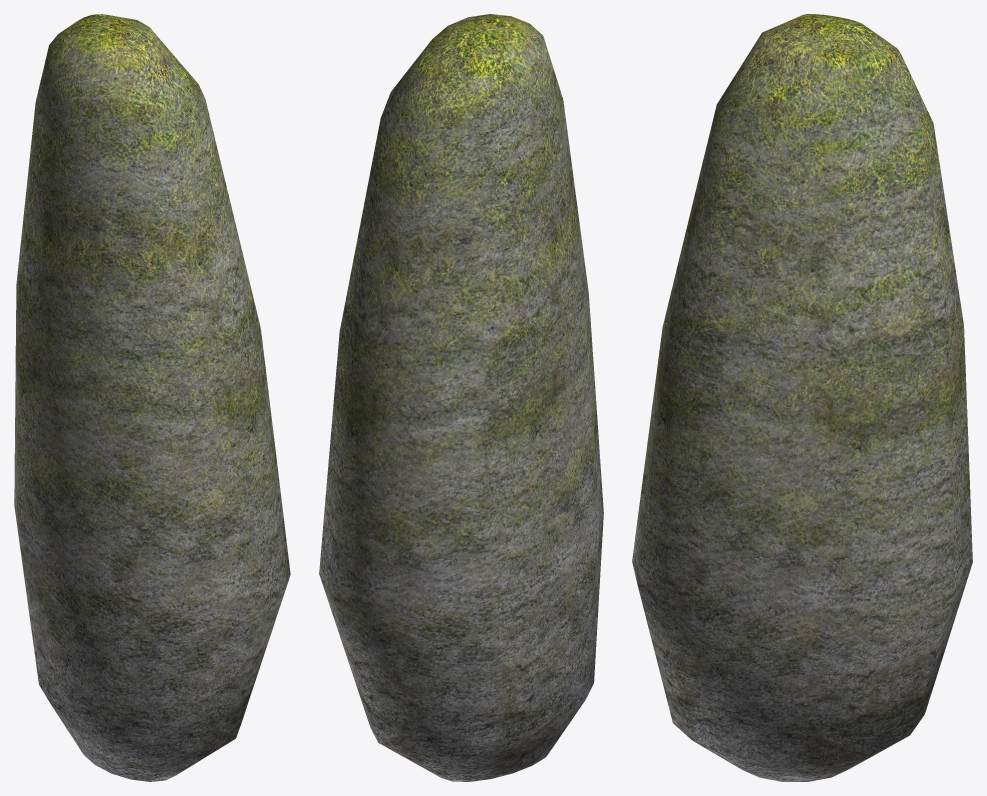
The model's file is Rock 3.glb.
3 renders of one model, left to right at view 1: azimuth 30°, elevation 25°; view 2: azimuth 150°, elevation 25°; view 3: azimuth 270°, elevation 25°, orthographic. The views are drawn at different scales.
Parts seen in each view (by area): view 1: LowPoly; view 2: LowPoly; view 3: LowPoly.
Part boxes in pixels (x1,y1,x2,y2): LowPoly: (14, 14, 290, 781); LowPoly: (319, 14, 603, 781); LowPoly: (632, 14, 972, 781).
Bounding box in the file's own units: 4.88 × 15.68 × 6.52.
Materials: 1 (1 with a texture image).
